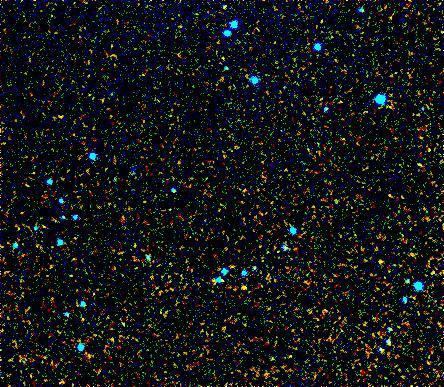star: (230, 272, 260, 302)
